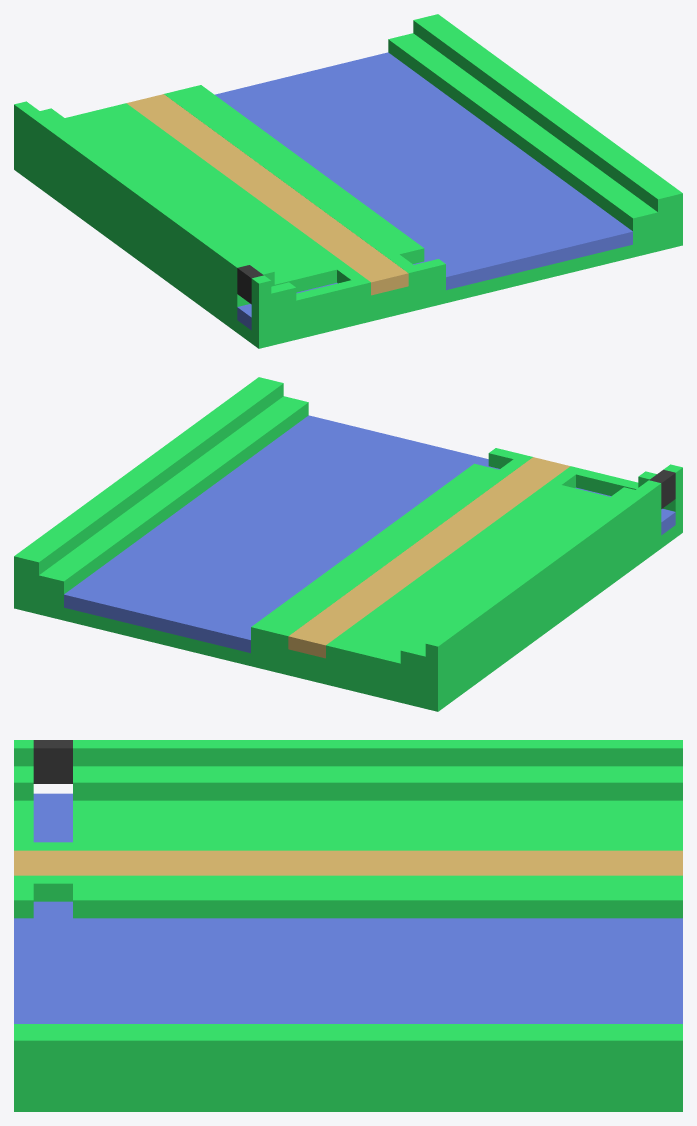
The model's file is ground.gltf.
The picture shows the model from 3 angles, top to bottom: view 1: azimuth 30°, elevation 25°; view 2: azimuth 150°, elevation 25°; view 3: azimuth 270°, elevation 25°; orthographic projection. The views are drawn at different scales.
Parts seen in each view (by area): view 1: Ground, River, Path, Outlet; view 2: Ground, River, Path, Outlet; view 3: Ground, River, Path, Outlet.
Boxes of the visible parts, <box> form: Ground: <box>14,14,682,348</box>; River: <box>215,52,632,330</box>; Path: <box>126,94,408,295</box>; Outlet: <box>237,265,263,304</box>; Ground: <box>14,377,682,711</box>; River: <box>64,415,675,653</box>; Path: <box>288,457,570,658</box>; Outlet: <box>649,469,675,508</box>; Ground: <box>14,740,682,1111</box>; River: <box>14,793,682,1023</box>; Path: <box>14,850,682,875</box>; Outlet: <box>33,740,72,783</box>.
Size of the model in its own units: 3.4 by 0.5 by 3.4.
